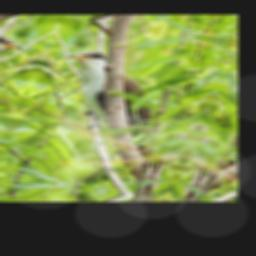Cuckoo: (22, 46, 209, 170)
